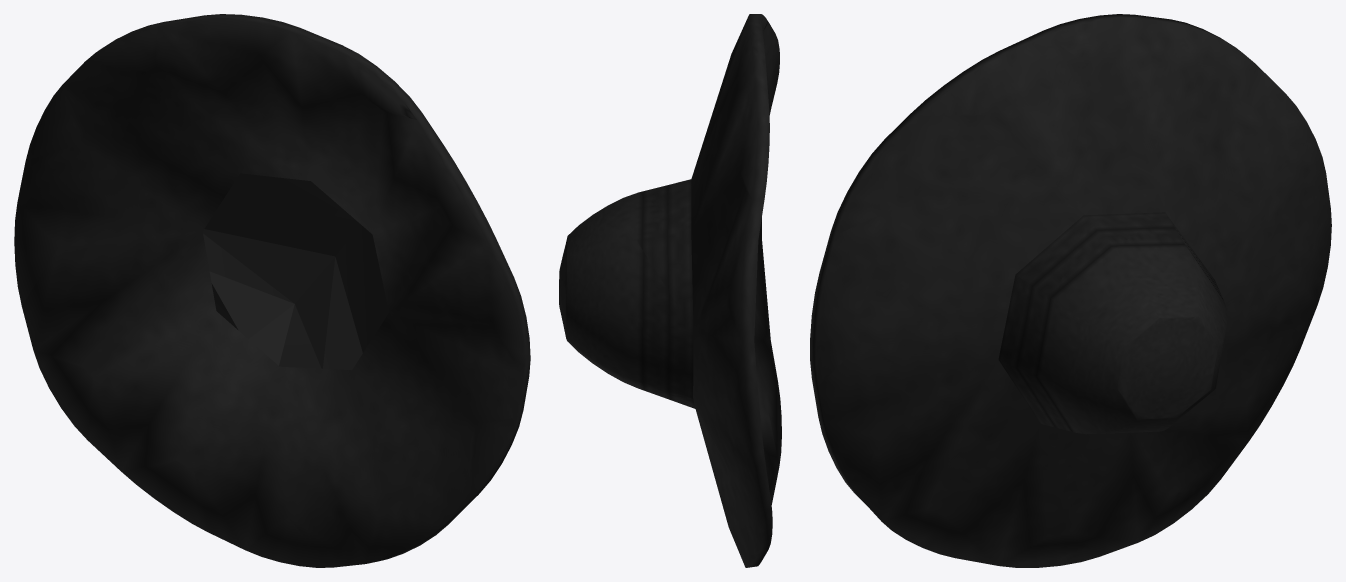
Rendered from LadyDHat_Back.fbx.
3 renders of one model, left to right at view 1: azimuth 30°, elevation 25°; view 2: azimuth 150°, elevation 25°; view 3: azimuth 270°, elevation 25°, orthographic. The views are drawn at different scales.
Parts seen in each view (by area): view 1: F_SummerHat; view 2: F_SummerHat; view 3: F_SummerHat.
Part boxes in pixels (x1,y1,x2,y2): F_SummerHat: [14, 14, 530, 567]; F_SummerHat: [559, 14, 781, 567]; F_SummerHat: [810, 14, 1331, 567].
Size of the model in its own units: 0.2023 by 0.3352 by 0.2951.
